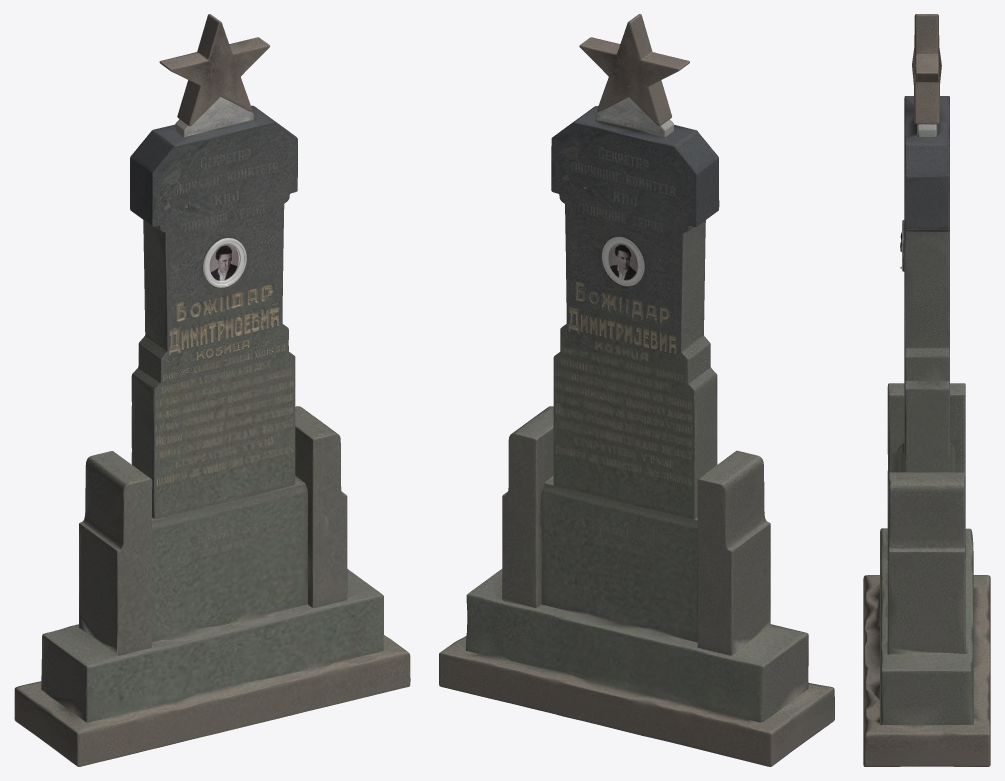
File: bozidar-dimitrijevic-kozica.glb
The picture shows the model from 3 angles, left to right: view 1: azimuth 30°, elevation 25°; view 2: azimuth 150°, elevation 25°; view 3: azimuth 270°, elevation 25°; orthographic projection.
Size of the model in its own units: 0.9683 by 1.9 by 0.3262.
1 material, 1 textured.
